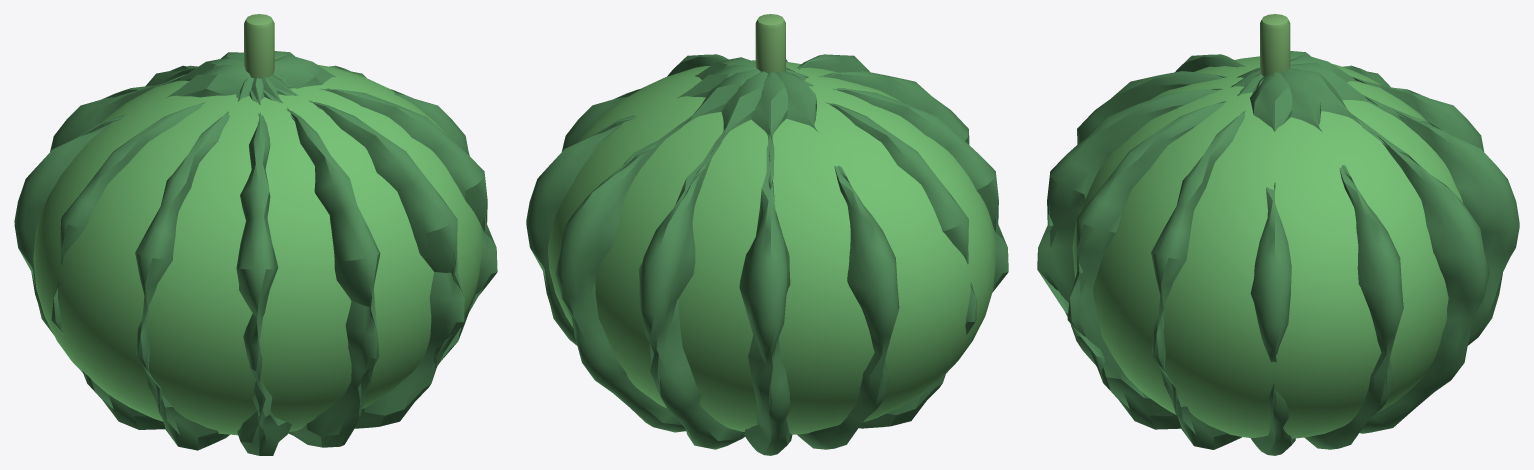
Rendered from suika.glb.
The picture shows the model from 3 angles, left to right: view 1: azimuth 30°, elevation 25°; view 2: azimuth 150°, elevation 25°; view 3: azimuth 270°, elevation 25°; orthographic projection.
Parts seen in each view (by area): view 1: suika; view 2: suika; view 3: suika.
Boxes of the visible parts, x1,y1,x2,y2 form: suika: (14, 14, 497, 455); suika: (526, 14, 1008, 455); suika: (1037, 14, 1519, 455).
Bounding box in the file's own units: 0.4765 × 0.4307 × 0.4765.
